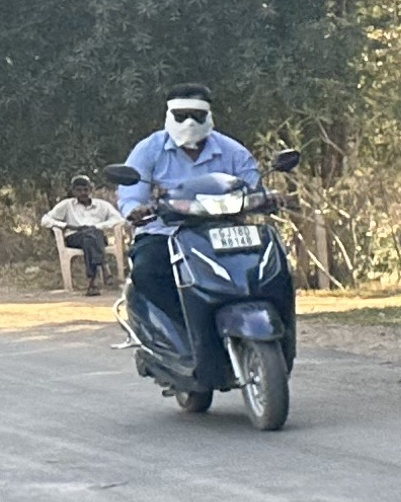BikeWithRider: (97, 77, 311, 435)
NoHelmet: (153, 79, 224, 150)
